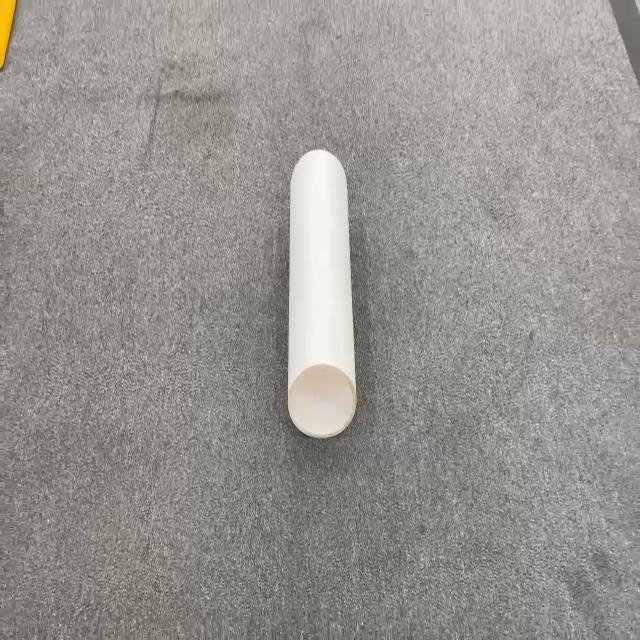coral: (286, 147, 358, 439)
